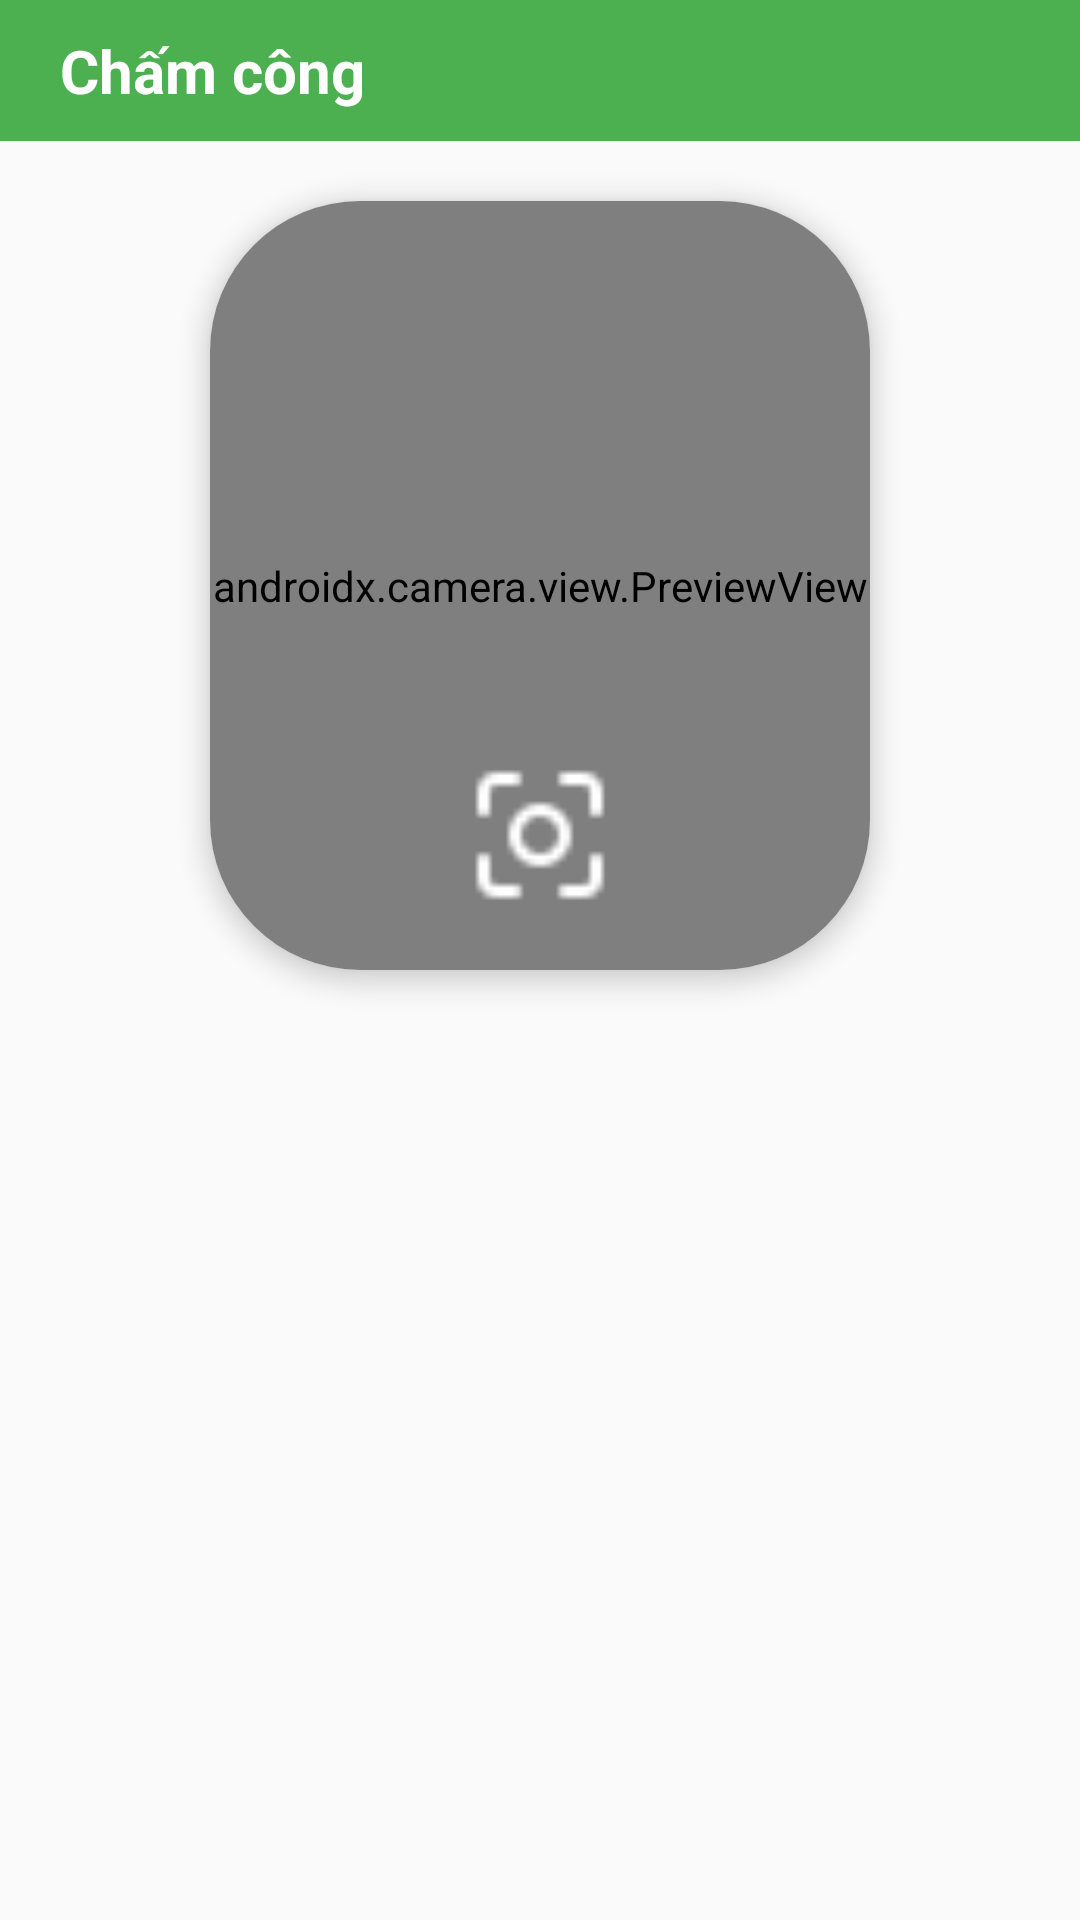

Where to tap for icons on this 1080×1920 app screen, as (x,y):
capture: (540,835)
